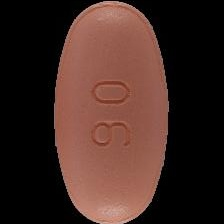0615-7978: (0, 0, 224, 224)
